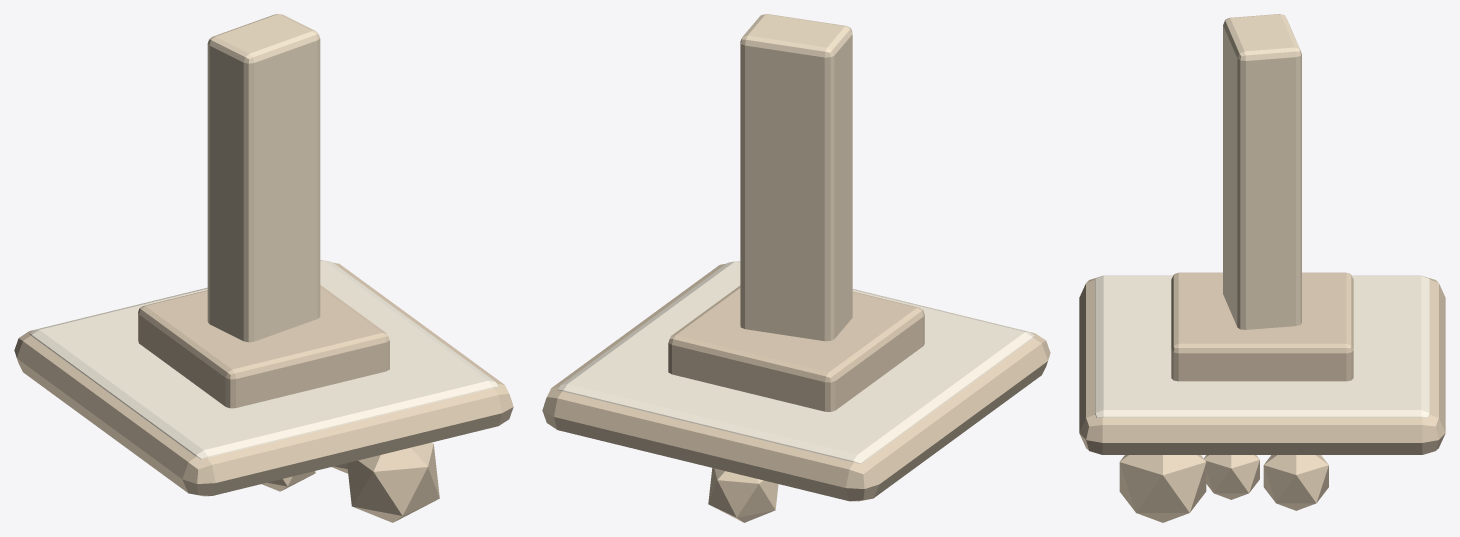
File: island_prompt.glb
The picture shows the model from 3 angles, left to right: view 1: azimuth 30°, elevation 25°; view 2: azimuth 150°, elevation 25°; view 3: azimuth 270°, elevation 25°; orthographic projection. The views are drawn at different scales.
Parts seen in each view (by area): view 1: island_prompt; view 2: island_prompt; view 3: island_prompt.
Boxes of the visible parts, <box> form: island_prompt: <box>14,14,513,522</box>; island_prompt: <box>542,14,1050,522</box>; island_prompt: <box>1079,14,1445,522</box>.
Size of the model in its own units: 1.56 by 2.17 by 1.56.
